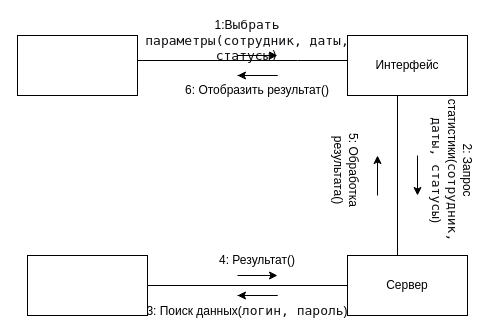
Some shapes in this 493 by 336 pixel diagram are drawn without their labels. The shapes that lost their labels are listed below. From the top down, each one's centre as x and y in pixels, then its label:
At (77,65): "Клиент".
At (87,285): "БД".
